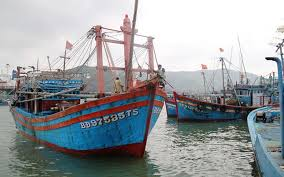tau_dansu: (9, 31, 167, 162), (175, 73, 252, 121)
